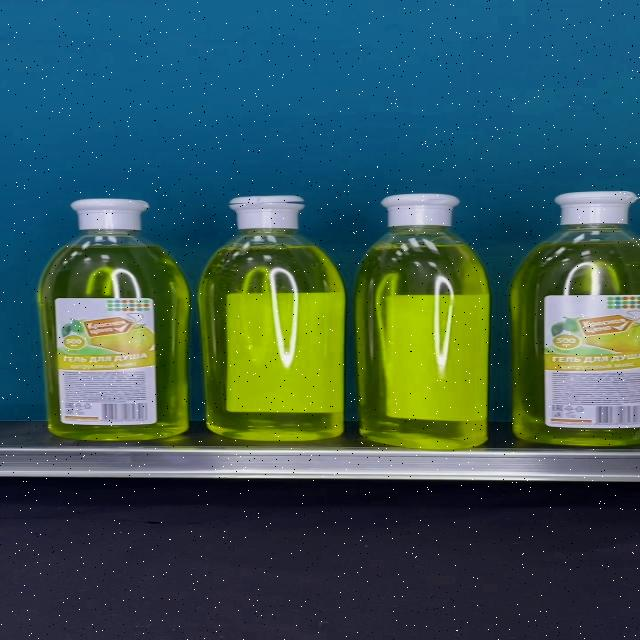Bottle: (37, 198, 190, 440), (198, 194, 346, 440), (354, 193, 490, 449), (510, 190, 640, 446)
Cap: (553, 191, 640, 226), (378, 194, 461, 226), (71, 198, 149, 232), (228, 195, 305, 229)
